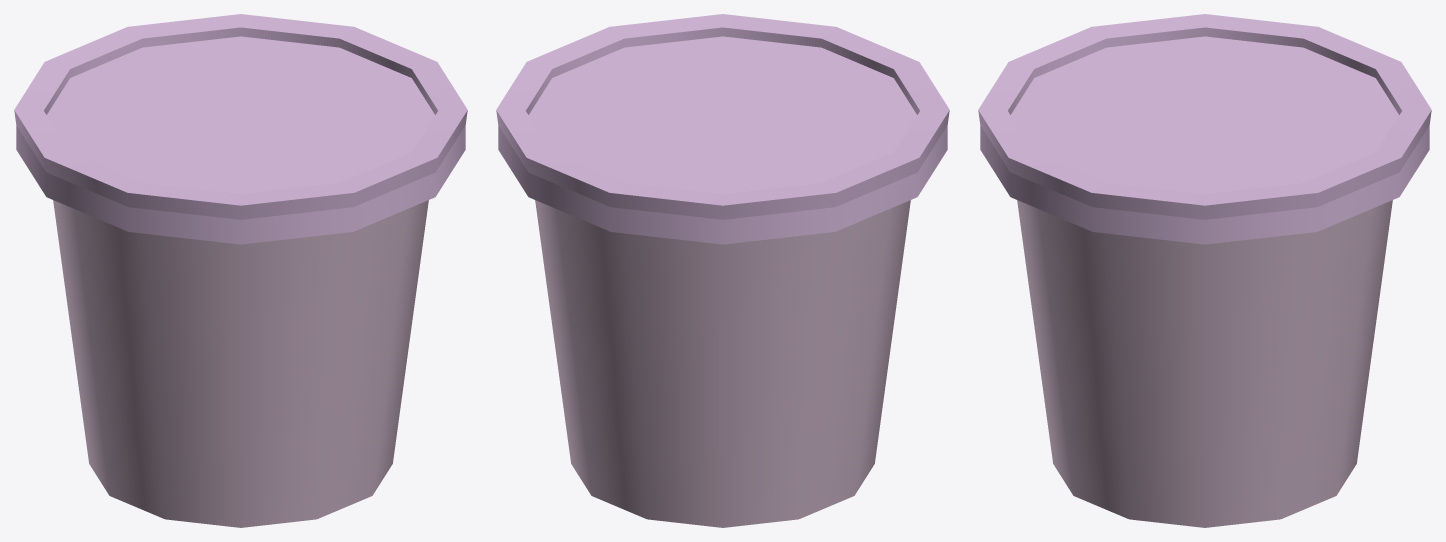
The model's file is ice-cream.glb.
3 renders of one model, left to right at view 1: azimuth 30°, elevation 25°; view 2: azimuth 150°, elevation 25°; view 3: azimuth 270°, elevation 25°, orthographic.
Visible parts, largest first — view 1: Object001, Cylinder001; view 2: Object001, Cylinder001; view 3: Object001, Cylinder001.
Boxes of the visible parts, x1=… form: Object001: x1=53, y1=200, x2=428, y2=527; Cylinder001: x1=14, y1=14, x2=467, y2=244; Object001: x1=535, y1=200, x2=910, y2=527; Cylinder001: x1=496, y1=14, x2=949, y2=244; Object001: x1=1017, y1=200, x2=1392, y2=527; Cylinder001: x1=978, y1=14, x2=1431, y2=244.
Bounding box in the file's own units: 0.066 × 0.0568 × 0.066.
